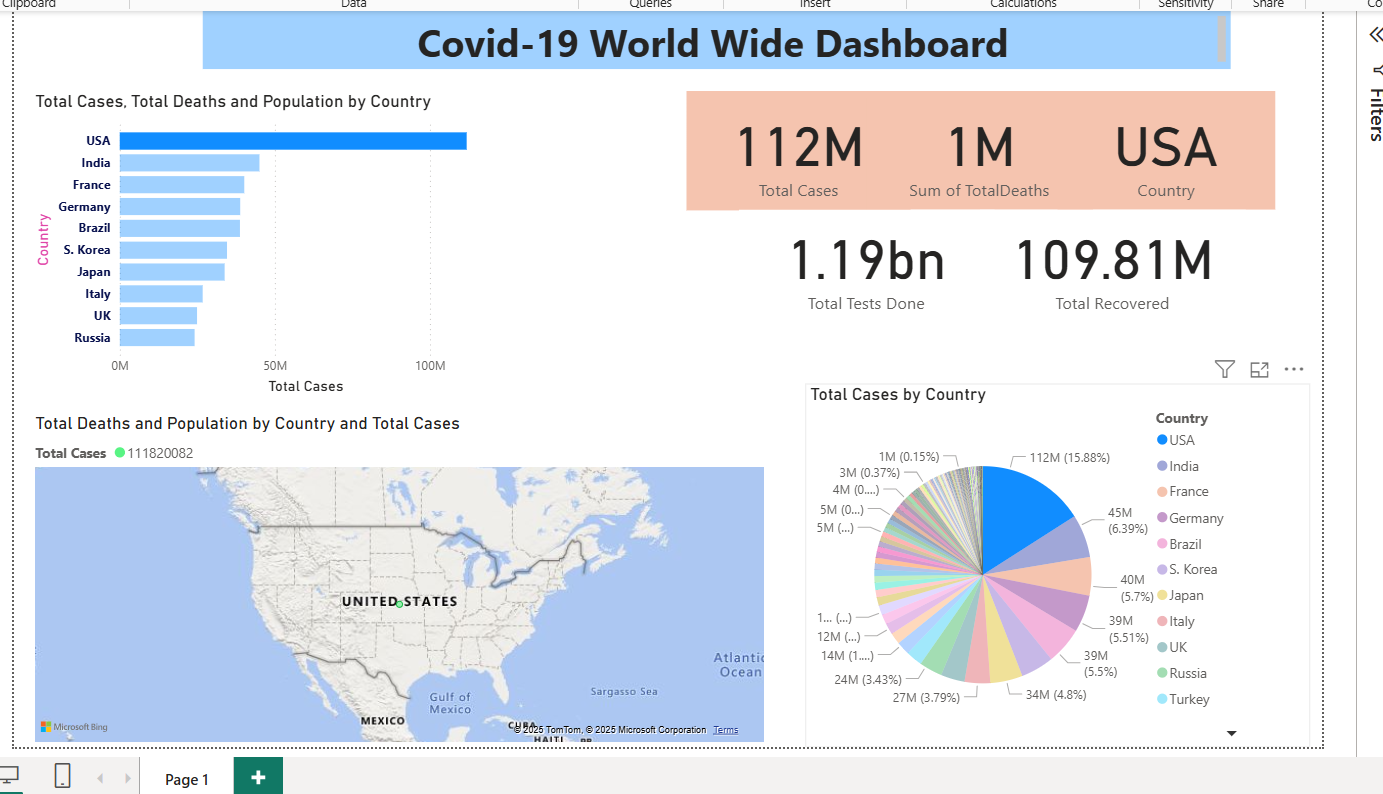

This screenshot's page, from the dashboard's own definition file:
{"tool":"powerbi","page":{"name":"Page 1","canvas":[1280,720],"ordinal":0},"visuals":[{"type":"map","fields":{"Category":["cleanedCovidData.Country"],"Series":["cleanedCovidData.TotalCases"]},"box":[15.7,392.9,722.9,327.1],"z":0},{"type":"decompositionTreeVisual","fields":{"Analyze":["Sum(cleanedCovidData.TotalCases)"],"ExplainBy":["cleanedCovidData.Country","cleanedCovidData.Continent"]},"box":[945.7,417.1,172.9,302.9],"z":1000},{"type":"card","fields":{"Values":["Sum(cleanedCovidData.TotalCases)"]},"box":[657.3,78.2,219.6,116.6],"z":2000},{"type":"card","fields":{"Values":["Sum(cleanedCovidData.TotalDeaths)"]},"box":[834,78.3,221.3,116.2],"z":3000},{"type":"pieChart","fields":{"Category":["cleanedCovidData.Country"],"Y":["Sum(cleanedCovidData.TotalCases)"]},"box":[773.9,365,494,355.4],"z":4000},{"type":"card","fields":{"Values":["Min(cleanedCovidData.Country)"]},"box":[1021.1,78.3,212.8,116.2],"z":5000},{"type":"textbox","box":[184.3,0,1005.7,57.1],"z":6000},{"type":"card","fields":{"Values":["Sum(cleanedCovidData.TotalTests)"]},"box":[709.2,194.4,249.5,105.2],"z":7000},{"type":"card","fields":{"Values":["Sum(cleanedCovidData.TotalRecovered)"]},"box":[945.2,194.4,259.2,105.2],"z":8000},{"type":"barChart","fields":{"Y":["Sum(cleanedCovidData.TotalCases)"],"Category":["cleanedCovidData.Country"]},"box":[15.7,78.6,472.9,301.4],"z":9000}]}

Visuals, with their boxes on the page's 1280x720 design canvas (x1, y1, x2, y2). These are canvas units, not pixel positions in the 1383x794 screenshot, which may show the page scaled, cropped or inside an application window:
map - cleanedCovidData.Country x cleanedCovidData.TotalCases: locate(16, 393, 739, 720)
decompositionTreeVisual - Sum(cleanedCovidData.TotalCases) x cleanedCovidData.Country: locate(946, 417, 1119, 720)
card - Sum(cleanedCovidData.TotalCases): locate(657, 78, 877, 195)
card - Sum(cleanedCovidData.TotalDeaths): locate(834, 78, 1055, 194)
pieChart - cleanedCovidData.Country x Sum(cleanedCovidData.TotalCases): locate(774, 365, 1268, 720)
card - Min(cleanedCovidData.Country): locate(1021, 78, 1234, 194)
textbox: locate(184, 0, 1190, 57)
card - Sum(cleanedCovidData.TotalTests): locate(709, 194, 959, 300)
card - Sum(cleanedCovidData.TotalRecovered): locate(945, 194, 1204, 300)
barChart - Sum(cleanedCovidData.TotalCases) x cleanedCovidData.Country: locate(16, 79, 489, 380)
